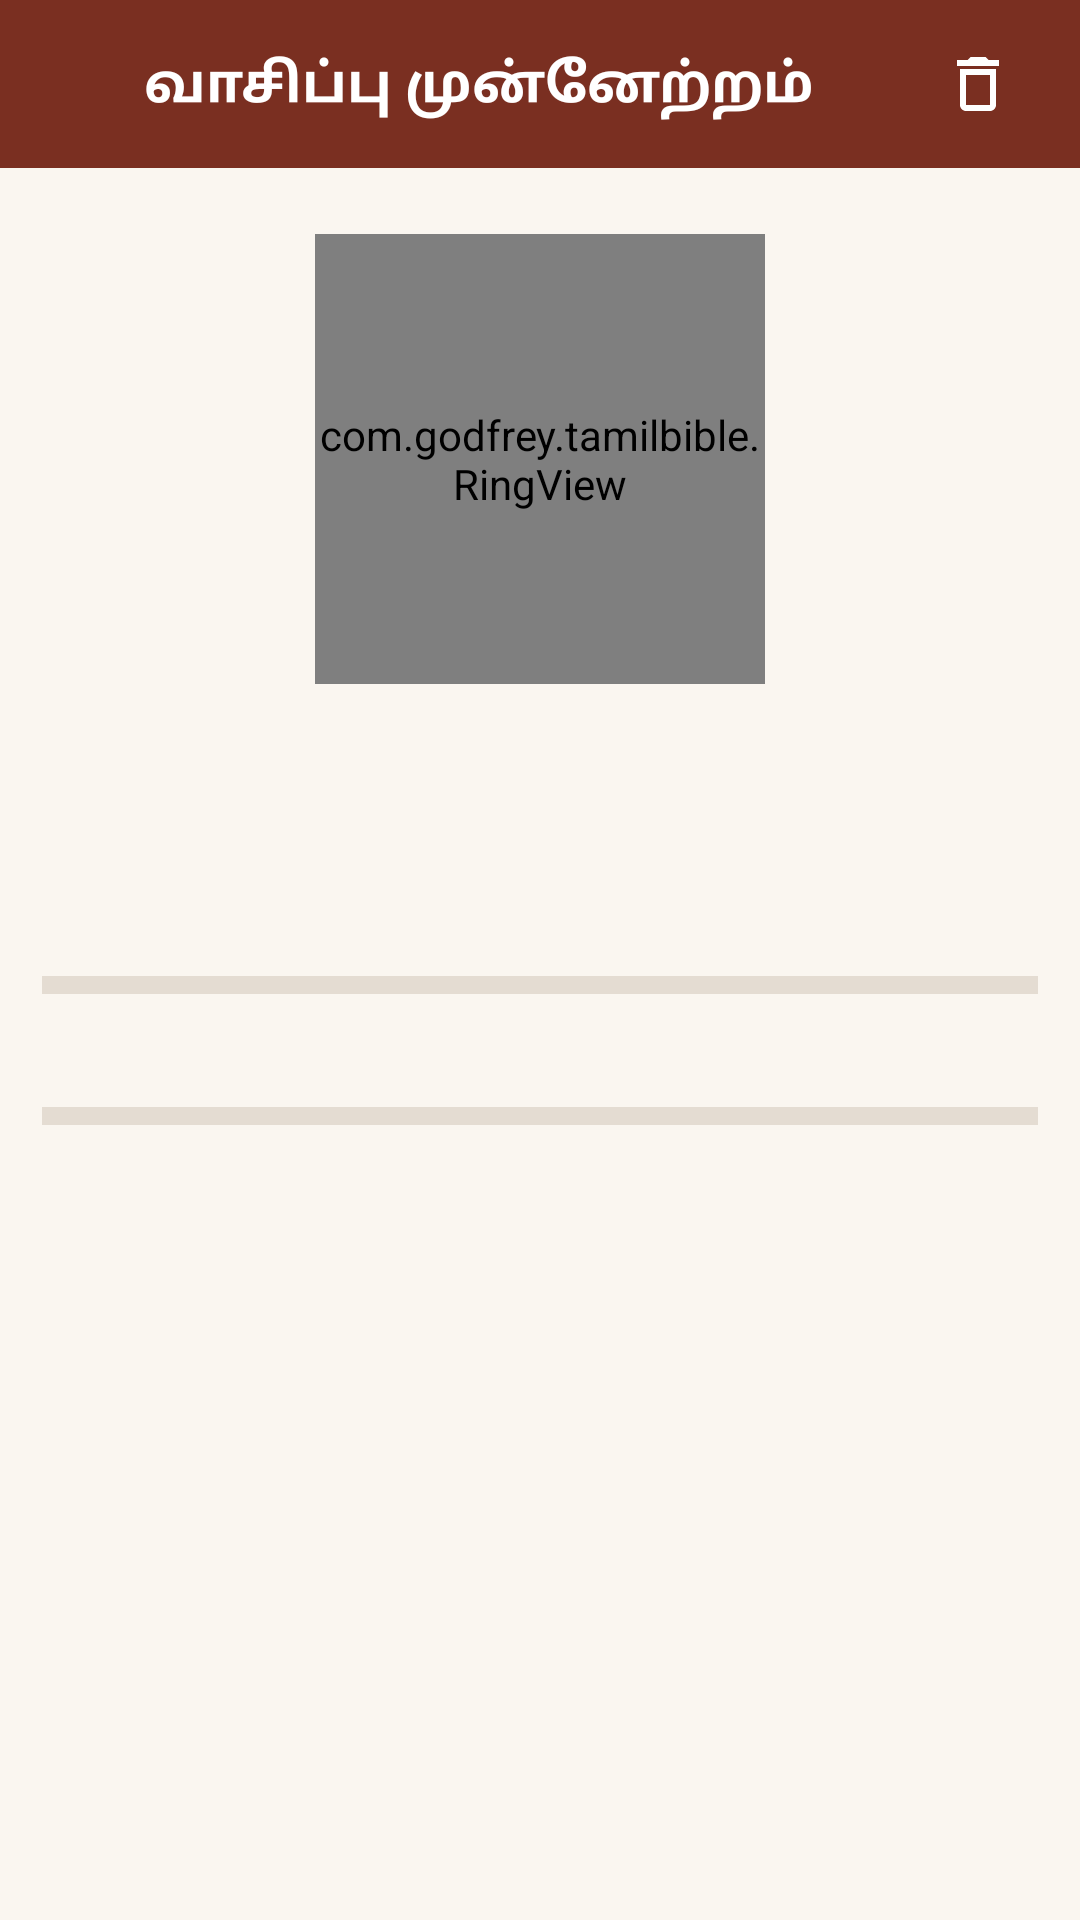

Named icons in this screenshot (1080px x 1920px) and their centers, point (x, y):
அனைத்துக் குறிகளையும் நீக்கு: point (978, 84)
